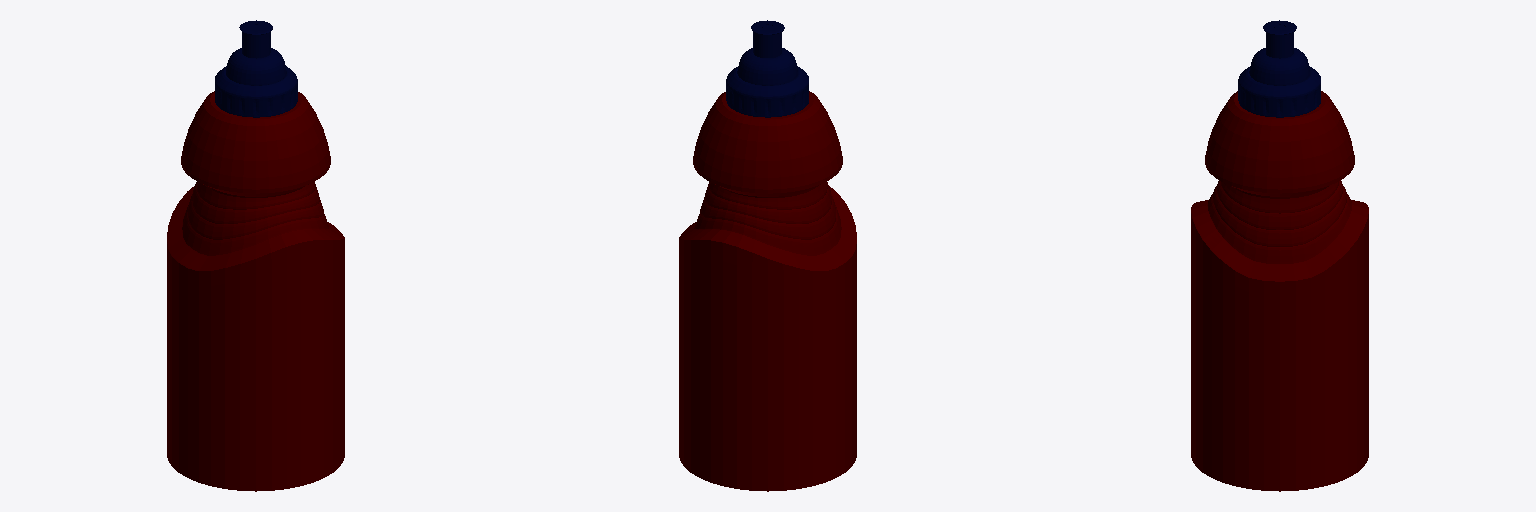
robot.urdf — ketchup_bottle:
<robot name="ketchup_bottle">
  <link name="ketchup_bottle">
      <inertial>
        <mass value="0.4" />
        <origin xyz="0 0 0.1" rpy="0 0 0"/>
        <!--<inertia ixx="0.00125" ixy="0" ixz="0" iyy="0.00125" iyz="0" izz="0.0025" />-->
        <inertia ixx="0.00" ixy="0" ixz="0" iyy="0.00" iyz="0" izz="0.00" />
      </inertial>

      <visual>
          <origin xyz="0 0 0" rpy="0 0 0" />
        <geometry>
          <mesh filename="package://mcr_gazebo_worlds/common/objects/models/ketchup_bottle.dae" scale="0.15 0.15 0.15"/>
        </geometry>
        <material name="LightGrey" />
      </visual>

      <collision>
        <origin xyz="0 0 0.0" rpy="0 0 0" />
        <geometry>
          <mesh filename="package://mcr_gazebo_worlds/common/objects/models/ketchup_bottle.dae" scale="0.15 0.15 0.15"/>
        </geometry>
     </collision>
  </link>
  <gazebo reference="ketchup_bottle">
    <material>Gazebo/Brown</material>
  </gazebo>
</robot>

--- Render facts (derived) ---
Views: 3 orthographic renders of the robot side by side, from view 1: azimuth 30°, elevation 25°; view 2: azimuth 150°, elevation 25°; view 3: azimuth 270°, elevation 25°.
Model ketchup_bottle with 1 links and 0 joints (none), rooted at ketchup_bottle, posed all joints at 0.
Links seen in each view (by area): view 1: ketchup_bottle; view 2: ketchup_bottle; view 3: ketchup_bottle.
Link boxes in pixels (<box>): ketchup_bottle: <box>167,20,344,491</box>; ketchup_bottle: <box>679,20,856,491</box>; ketchup_bottle: <box>1191,20,1368,491</box>.
Bounding box of the posed robot: 0.0739 × 0.0739 × 0.196 m (x, y, z).
Meshes: 1 distinct files referenced, 1 mesh visuals loaded (1 Collada DAE).